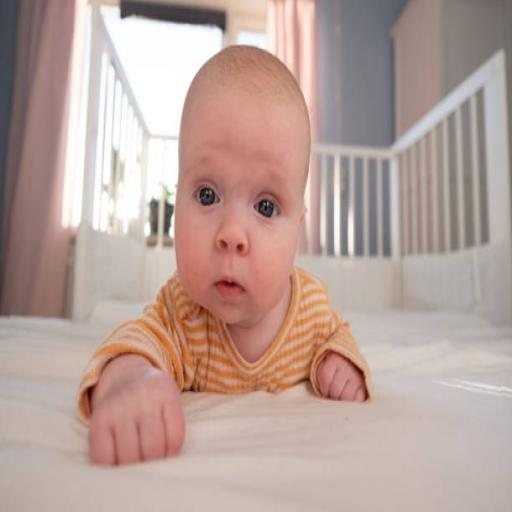baby: (79, 46, 368, 464)
crib: (297, 52, 511, 324)
